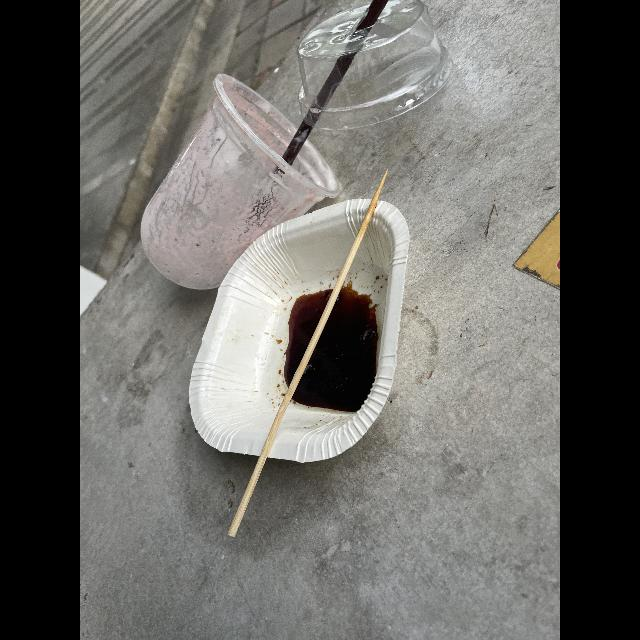cardboard_bowl: (179, 188, 403, 470)
plastic_cup: (134, 72, 340, 288)
plastic_cup_lid: (282, 0, 482, 134)
stick: (220, 157, 412, 556)
straw: (272, 0, 401, 183)
